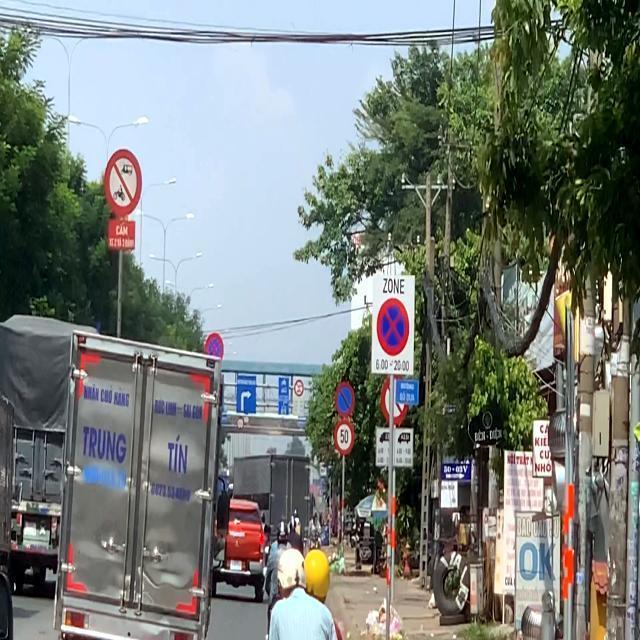102-cam-di-nguoc-chieu: (377, 298, 413, 354), (204, 332, 223, 364)
127-toc-do-toi-da-50: (334, 420, 354, 452)
131a-cam-do-xe: (334, 379, 356, 416)
